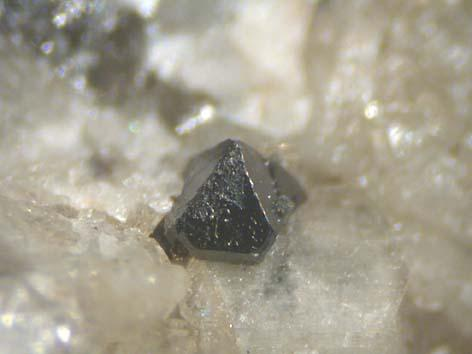magnetite: (176, 144, 273, 254)
